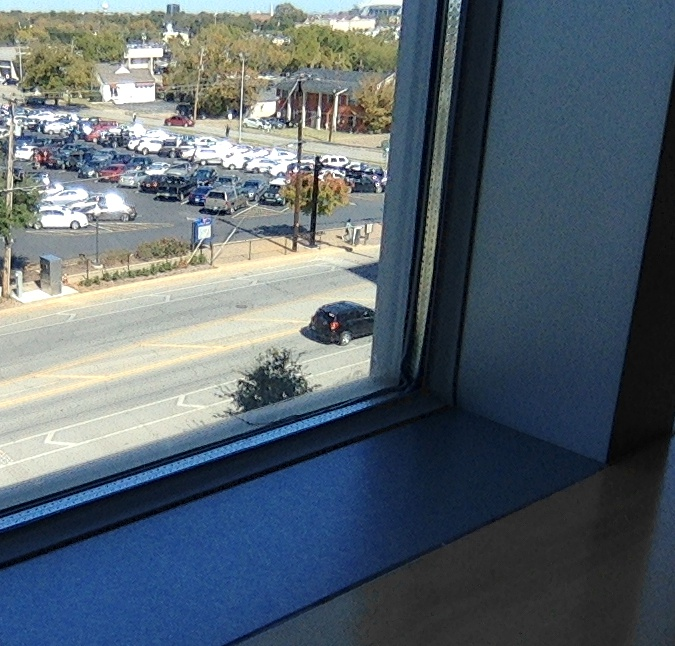car: (300, 300, 375, 346)
